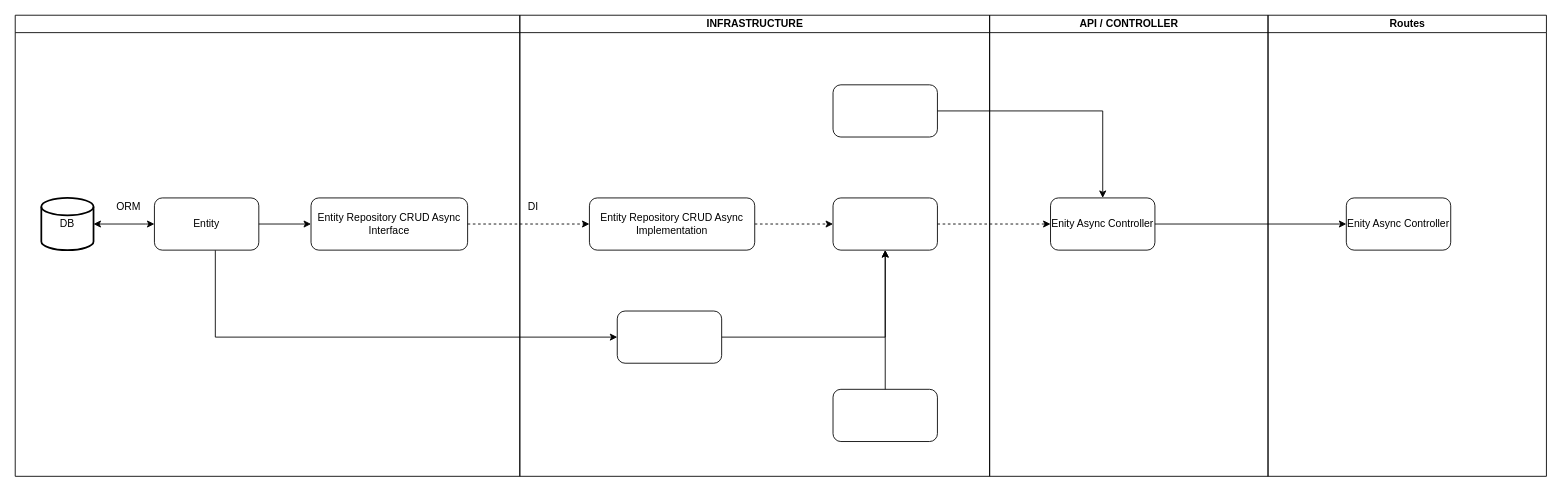
Some shapes in this 1562 by 492 pixel diagram are drawn without their labels. Here are the shapes that lost their labels. From the top down, the box of each, then its label:
(832, 84, 937, 137): Service Command (map request body to func parameters)
(832, 197, 937, 250): Entity Service Async Implementation
(14, 14, 520, 476): CORE
(616, 310, 722, 363): Entity DTO
(832, 388, 937, 442): Entity Service Async Interface
